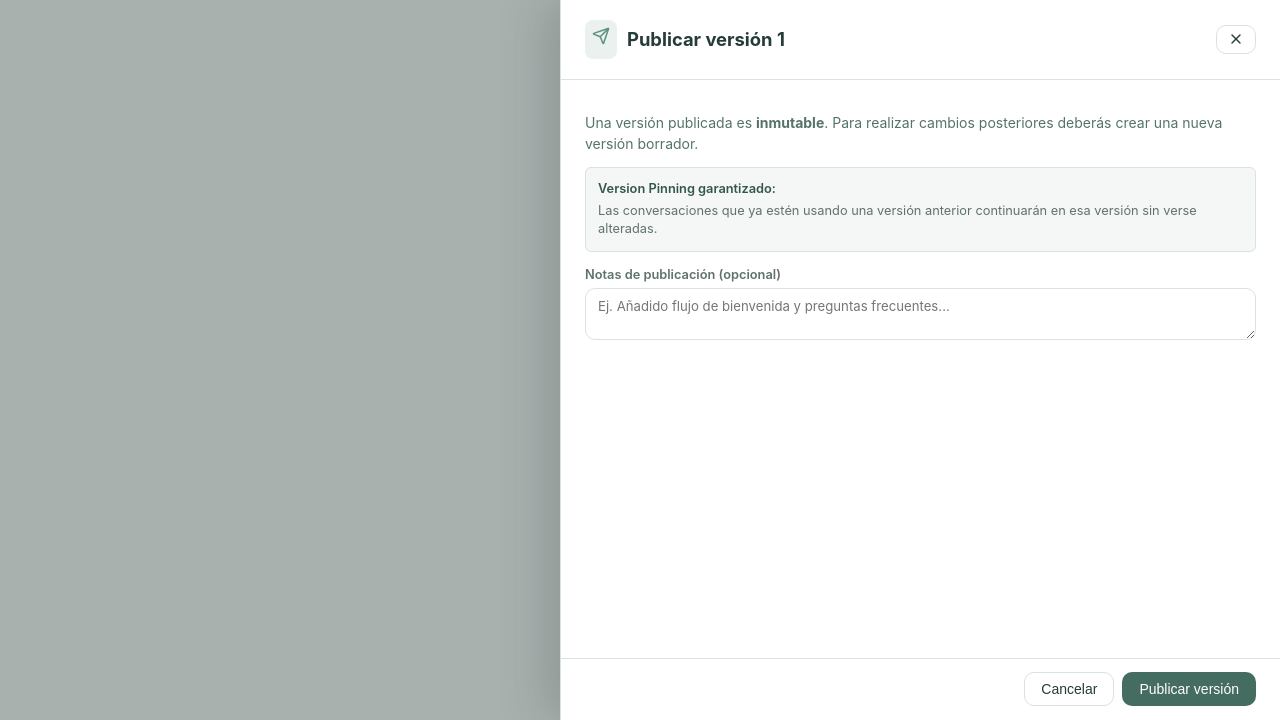
FlowPublishModal › displays error message when publishing fails
The width and height of the screenshot is (1280, 720).
Click the button "Publicar versión": click(1189, 689) [1122,672,1256,706]
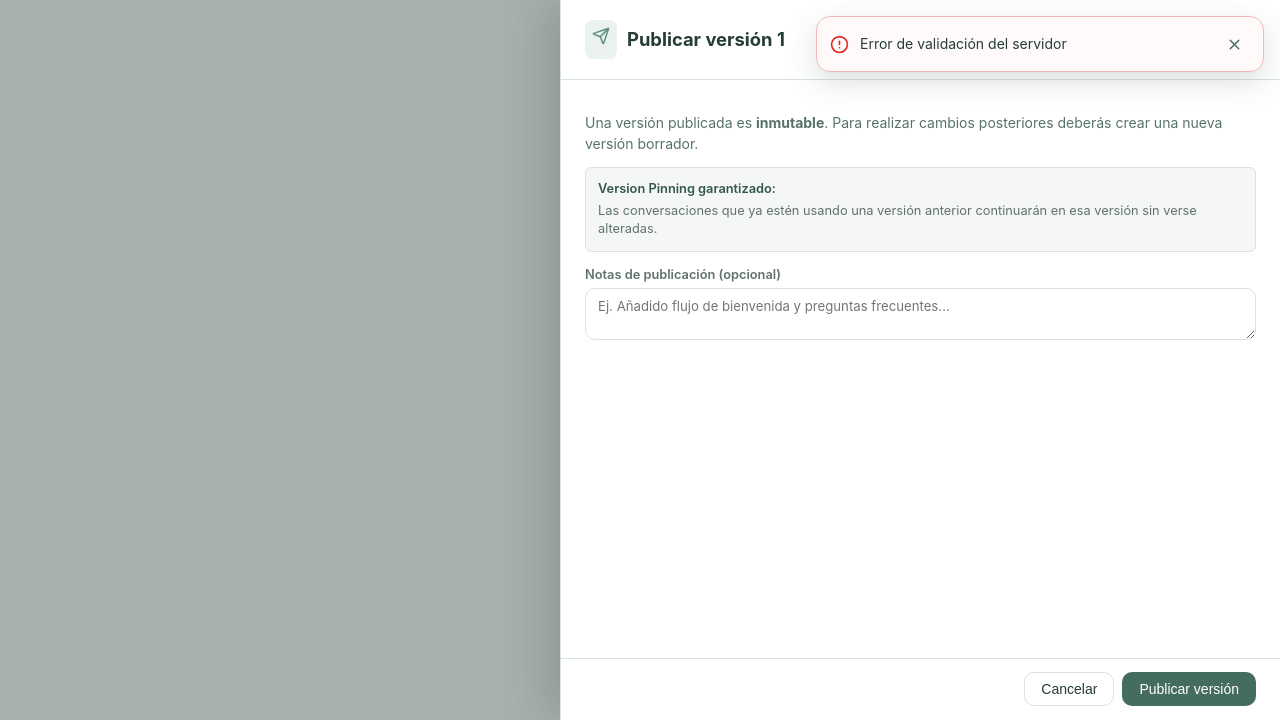
Expected: the text "Error de validación del servidor" is shown, [860,35,1067,52]
